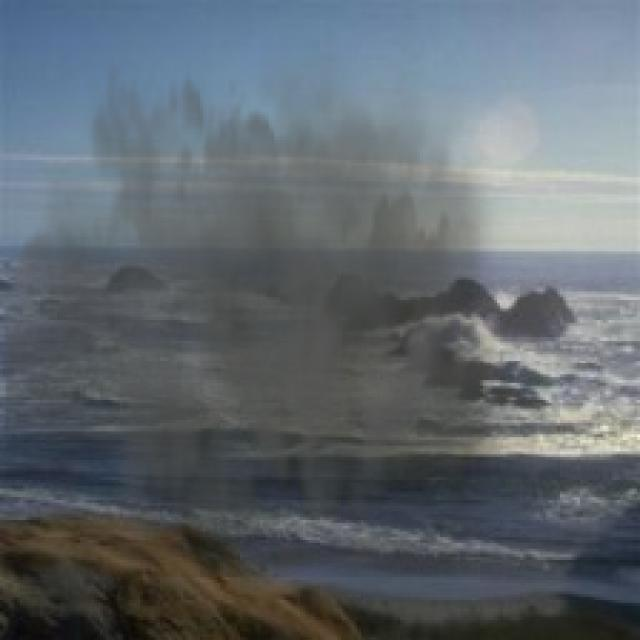smoke: (6, 12, 526, 577)
